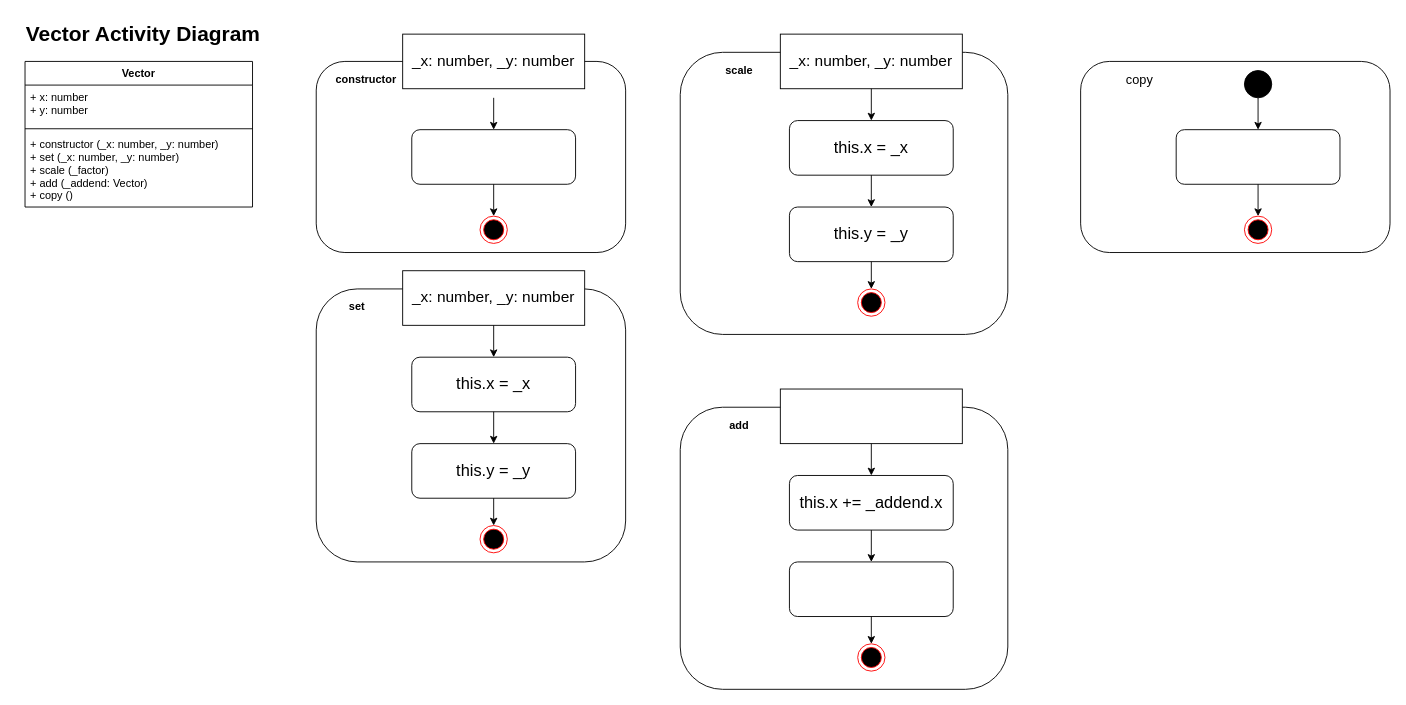
Image size: 1406x705. Some labels were removed from this diagram. Each missing label, with the box of its shape:
_addend: Vector: (779, 388, 962, 444)
return new Vector (this.x, this.y): (1175, 129, 1340, 184)
this.set (_x, _y): (411, 129, 576, 184)
this.y += _addend.y: (789, 561, 953, 617)
